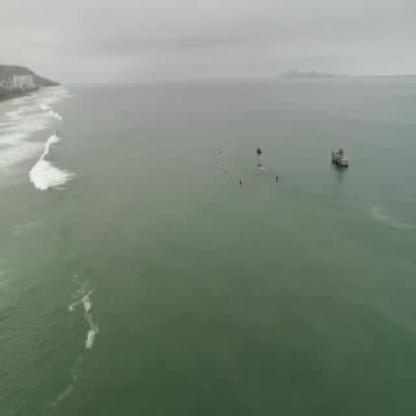Boat: (329, 144, 353, 175)
